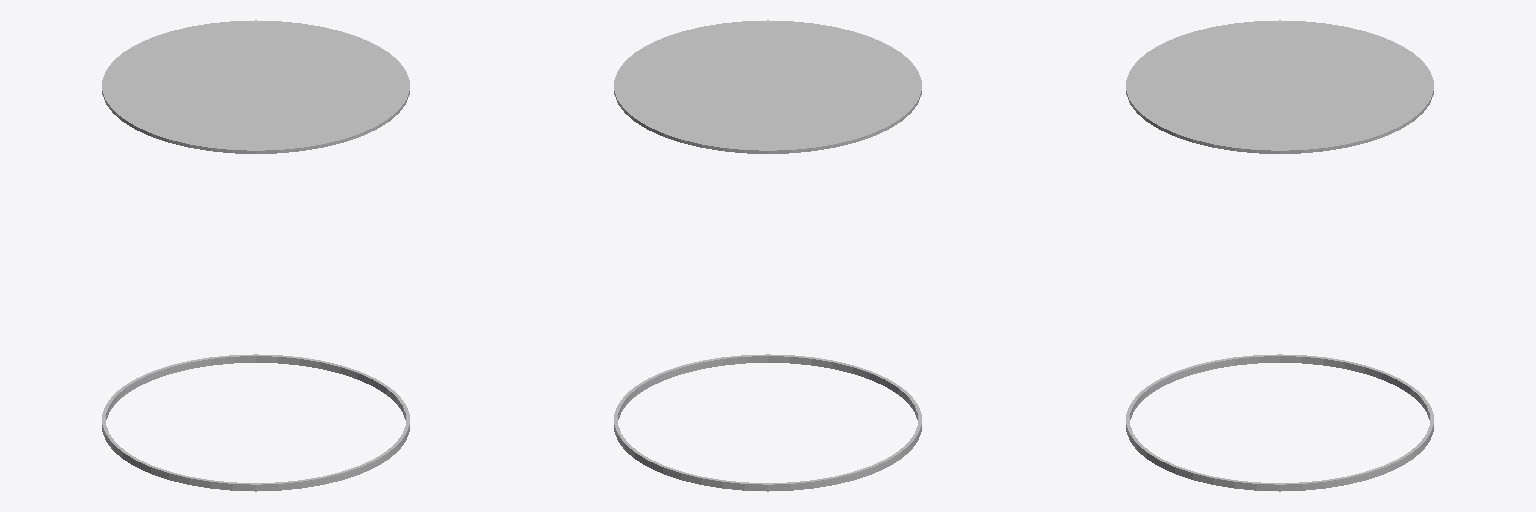
URDF robot description (stage):
<?xml version="1.0" encoding="utf-8"?>
<!-- =================================================================================== -->
<!-- |    This document was autogenerated by xacro from [local-path]/ws/fingers/workspace/src/catkin/robots/robot_properties/robot_properties_fingers/xacro/stage.urdf.xacro | -->
<!-- |    EDITING THIS FILE BY HAND IS NOT RECOMMENDED                                 | -->
<!-- =================================================================================== -->
<robot name="stage">
  <material name="stage_material">
    <color rgba="0.8 0.8 0.8 1.0"/>
  </material>
  <!-- add the "stage" -->
  <link name="stage_link">
    <visual>
      <origin rpy="0 0 0" xyz="0 0 0"/>
      <geometry>
        <mesh filename="package://robot_properties_fingers/meshes/side_boundary_visual_no_connection.obj" scale="0.001 0.001 0.001"/>
      </geometry>
      <material name="stage_material"/>
    </visual>

    <collision>
      <origin rpy="0 0 0" xyz="0 0 0"/>
      <geometry>
        <mesh filename="package://robot_properties_fingers/meshes/side_boundary.obj" scale="0.001 0.001 0.001"/>
      </geometry>
    </collision>

    <inertial>
      <origin rpy="0 0 0" xyz="0 0 0"/>
      <mass value="1"/>
      <inertia ixx="0.00770833333333" ixy="0" ixz="0" iyy="0.00770833333333" iyz="0" izz="0.015"/>
    </inertial>
  </link>
</robot>

--- Facts derived from the render (not from the file) ---
3 views of the same robot in one strip: view 1: azimuth 30°, elevation 25°; view 2: azimuth 150°, elevation 25°; view 3: azimuth 270°, elevation 25° (orthographic).
Robot: stage — 1 links, 0 joints (none); root link stage_link; default pose: every joint at zero.
Visible links, largest first — view 1: stage_link; view 2: stage_link; view 3: stage_link.
Boxes of the visible links, x1,y1,x2,y2 form: stage_link: (102, 20, 409, 491); stage_link: (614, 20, 921, 491); stage_link: (1126, 20, 1433, 491).
Size in the robot's own frame: 0.41 by 0.4089 by 0.5 metres.
1 mesh visuals loaded from 1 distinct referenced files (1 OBJ).